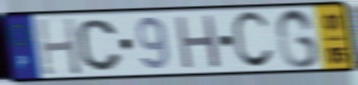9: (134, 14, 172, 73)
C: (230, 9, 277, 72), (75, 17, 125, 73)
G: (274, 7, 322, 71)
H: (34, 16, 84, 78), (173, 13, 223, 72)
